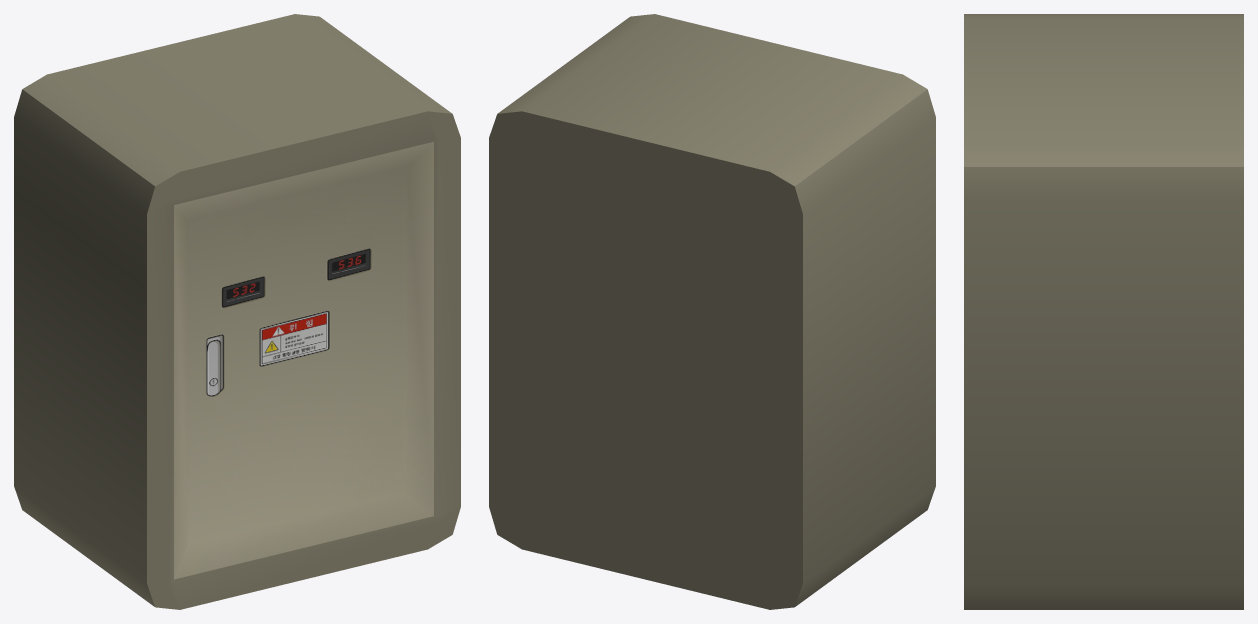
The picture shows the model from 3 angles, left to right: view 1: azimuth 30°, elevation 25°; view 2: azimuth 150°, elevation 25°; view 3: azimuth 270°, elevation 25°; orthographic projection. The views are drawn at different scales.
Parts seen in each view (by area): view 1: PLC본체(전원환경감시)025; view 2: PLC본체(전원환경감시)025; view 3: PLC본체(전원환경감시)025.
Boxes of the visible parts, <box> form: PLC본체(전원환경감시)025: <box>14,14,460,609</box>; PLC본체(전원환경감시)025: <box>489,14,935,609</box>; PLC본체(전원환경감시)025: <box>964,14,1243,609</box>.
Bounding box in the file's own units: 0.15 × 0.2 × 0.11.
2 materials, 1 textured.
